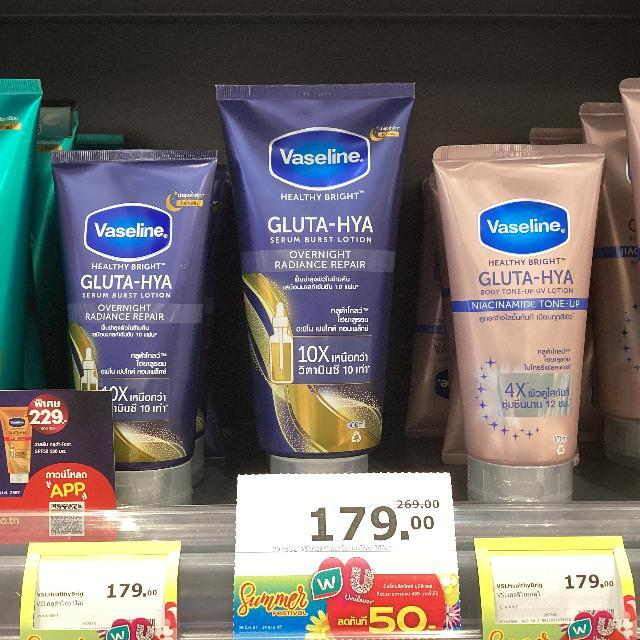Squeeze Tube: (0, 49, 640, 529), (213, 82, 424, 486), (430, 144, 608, 509), (46, 147, 219, 501)
